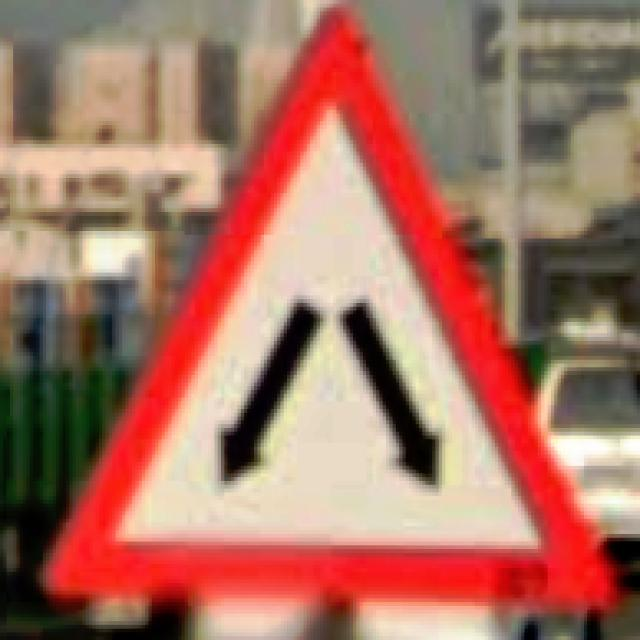diverge: (36, 0, 620, 625)
